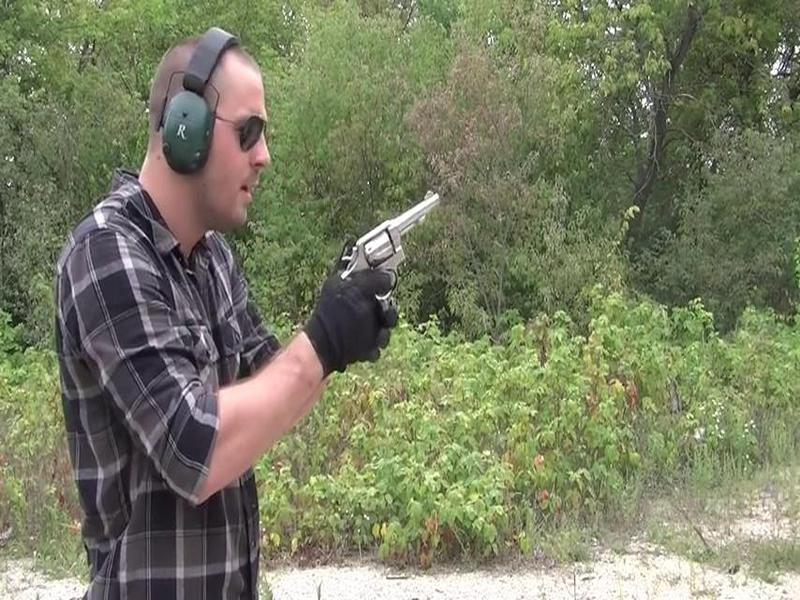Revolver: (322, 181, 447, 314)
